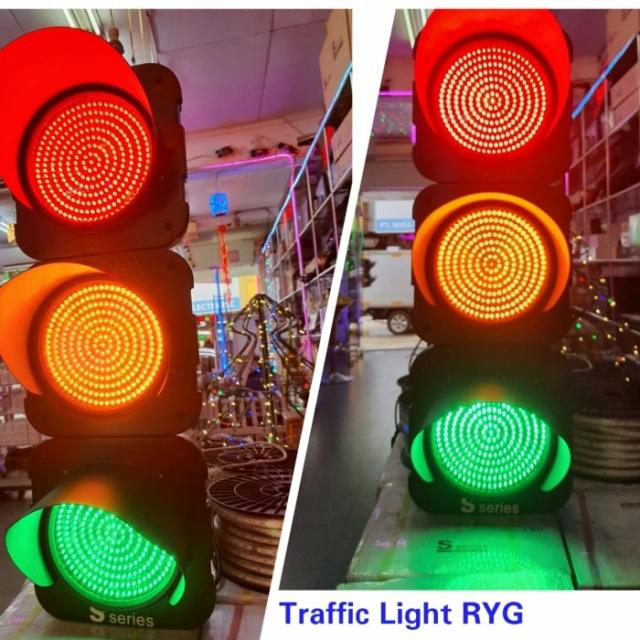Hijau: (46, 498, 182, 612), (429, 400, 553, 498)
Kuning: (34, 277, 164, 414), (434, 206, 552, 325)
Merah: (26, 89, 156, 223), (431, 39, 550, 156)
